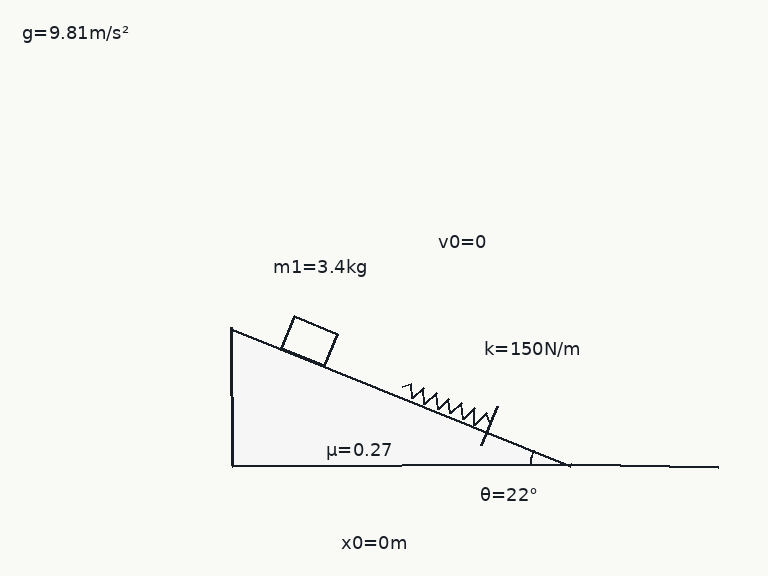block: (279, 314, 338, 367)
ramp: (231, 326, 573, 467)
spring: (400, 381, 492, 426)
